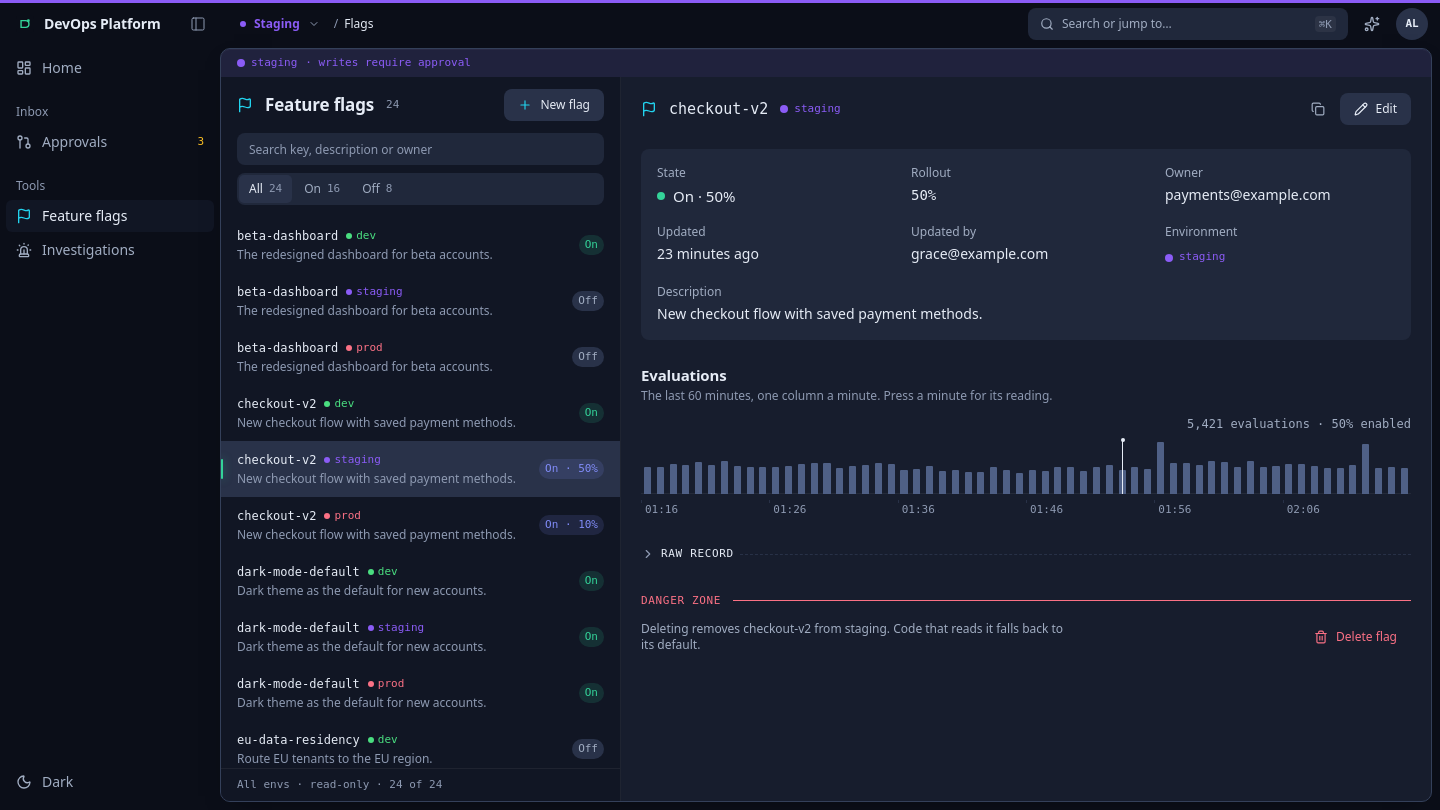
Test case: the minute popover › opens a minute against its column and takes focus
Click the button named "01:53 UTC, 63 evaluations, 48% enabled" at (1122, 468), box [1116,442,1128,494]
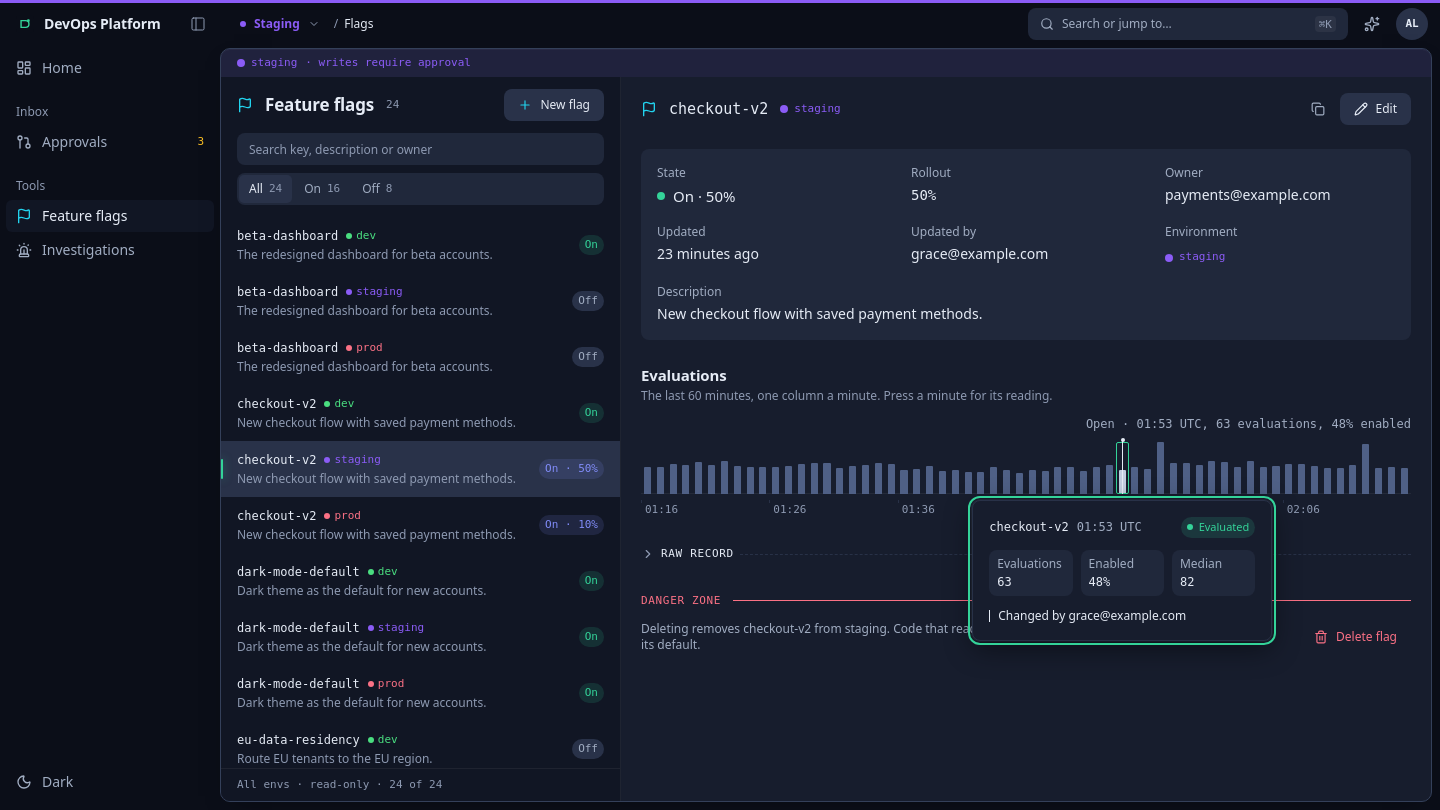
Now the text "Evaluations" is shown, box [997,556,1065,572]
